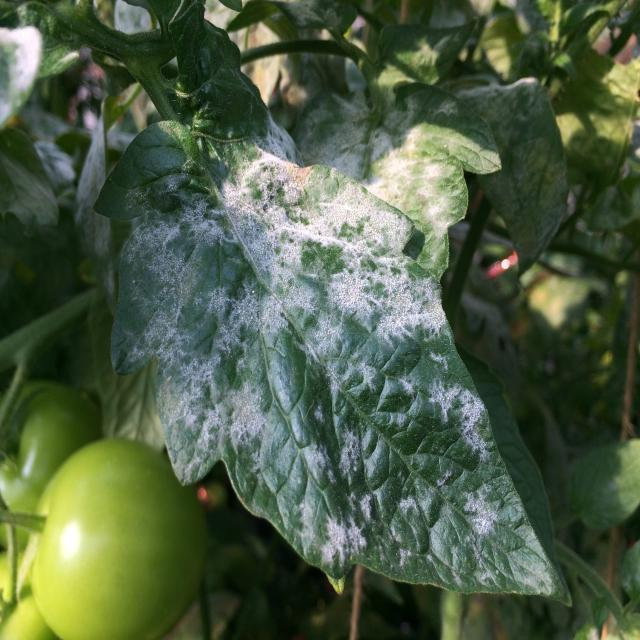Powdery Mildew: (107, 139, 564, 599)
